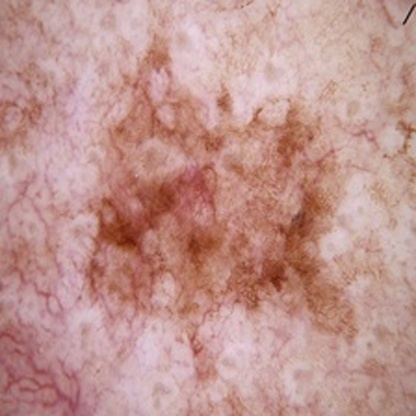malignant: (108, 104, 313, 304)
